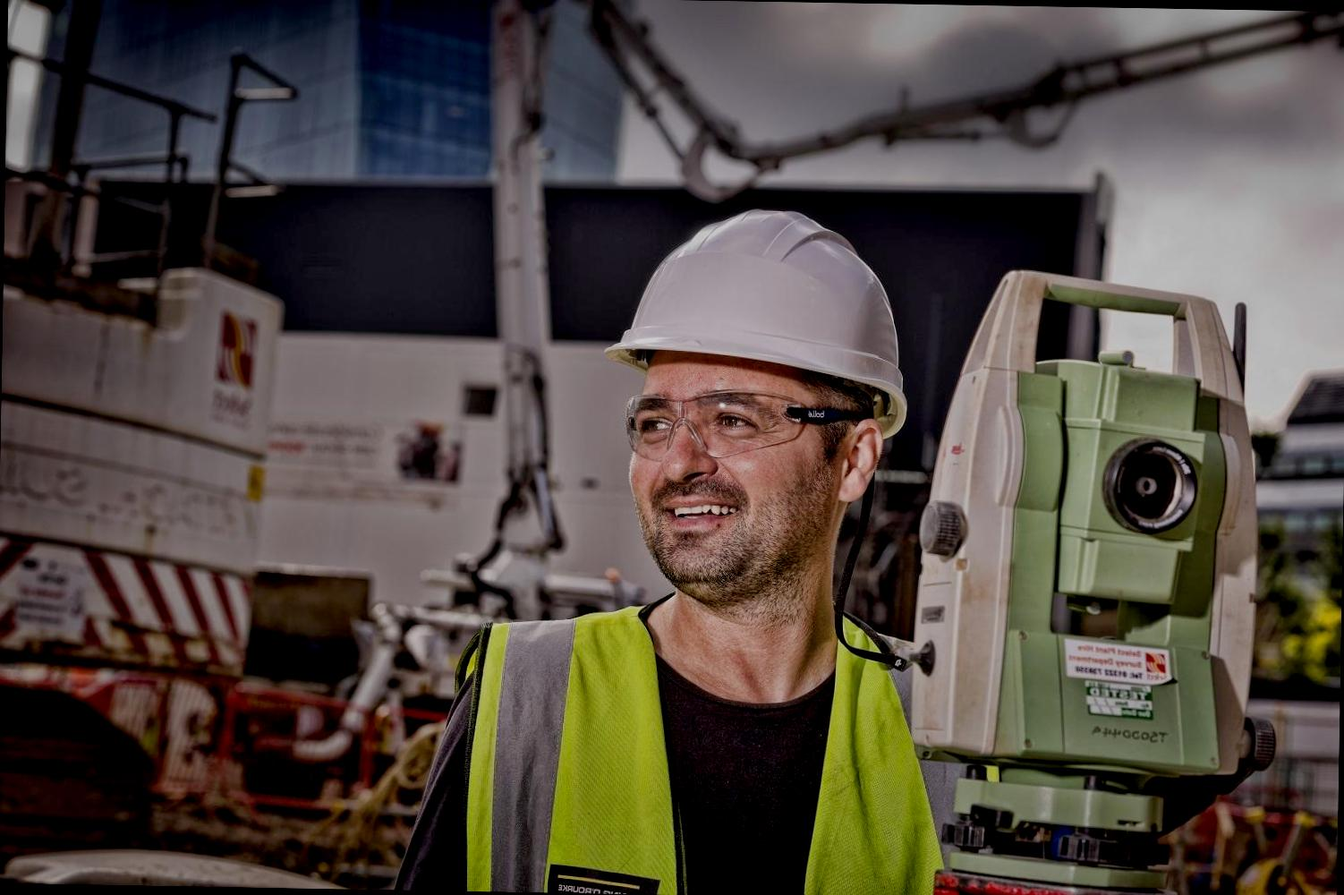helmet: (603, 200, 925, 444)
person: (530, 194, 928, 895)
